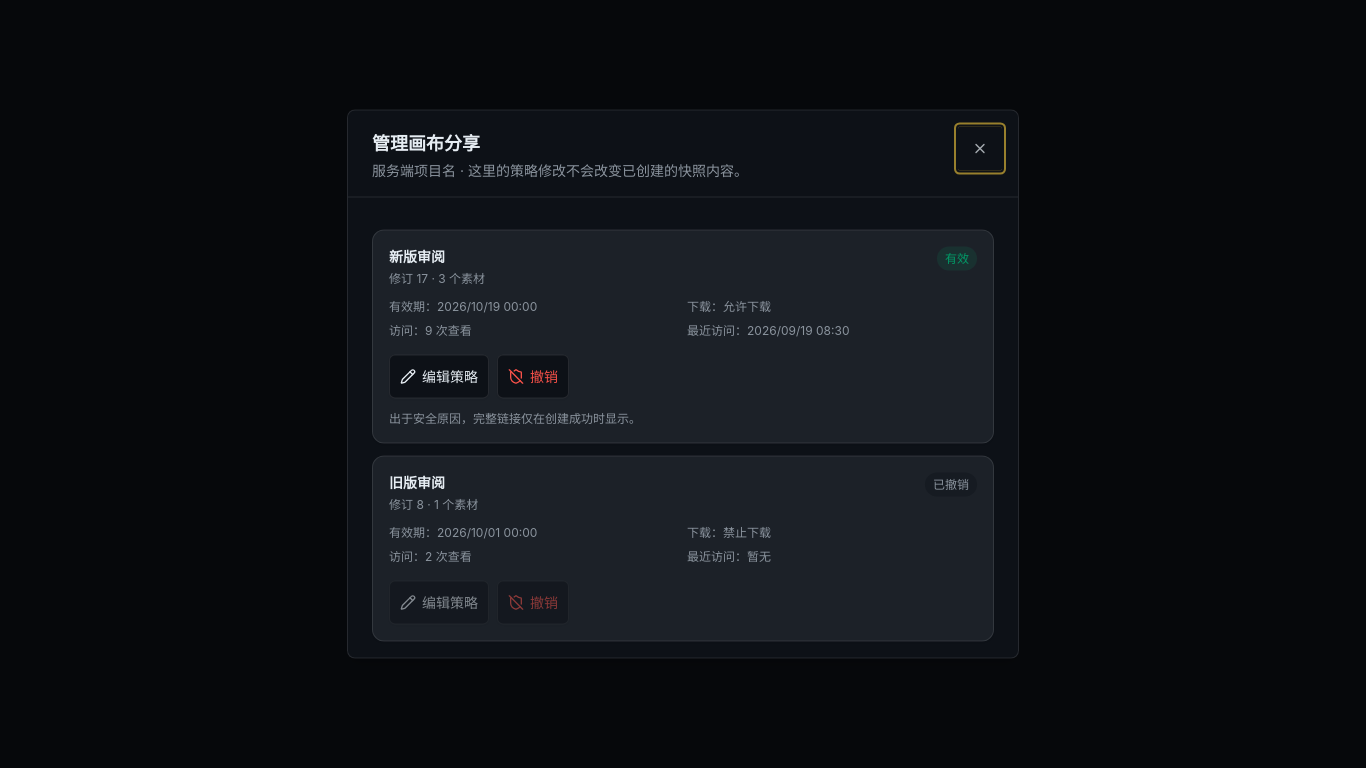
canvas share owner UI › renders revoke failures inside the active confirmation alert
Step 1. Click the button with aria-label "撤销分享 新版审阅" → (533, 376), box [497, 354, 569, 398]
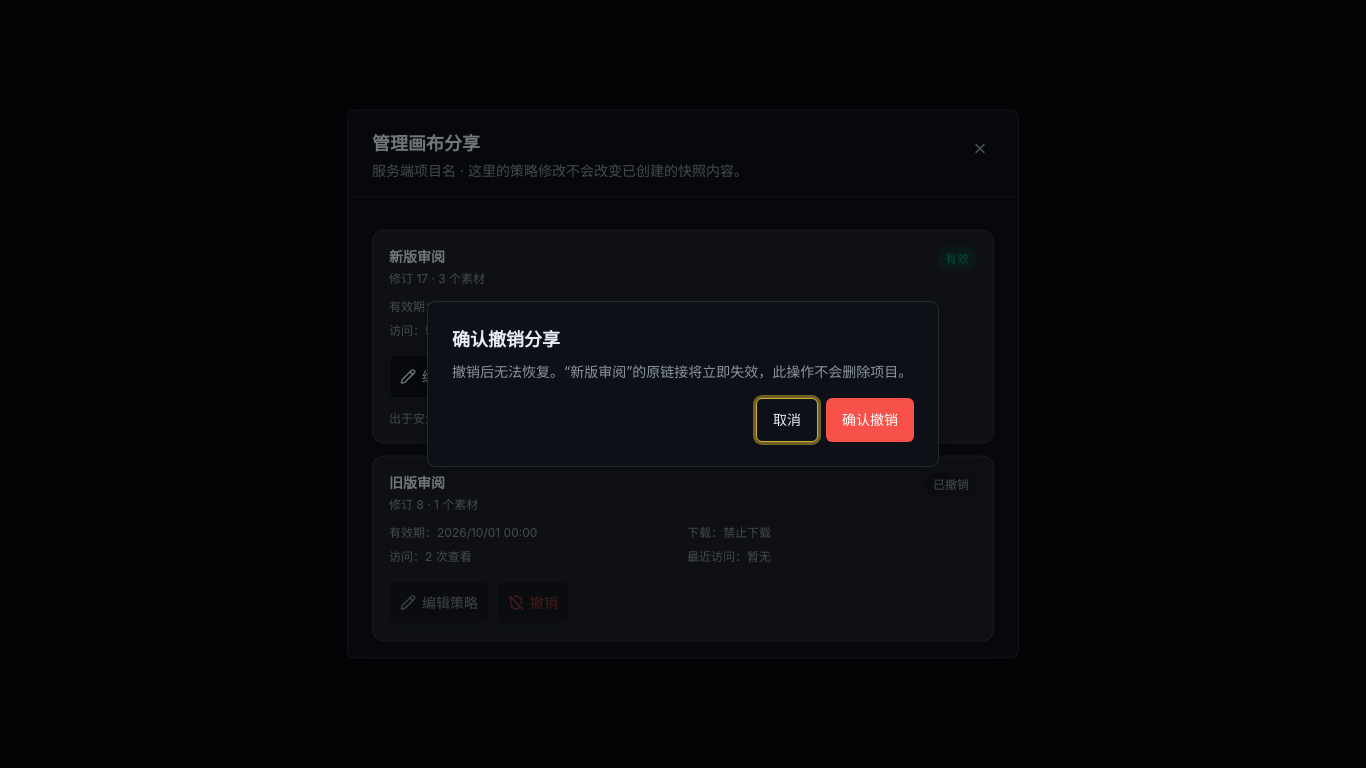
Step 2. Click the button "确认撤销" → (870, 420), box [826, 398, 914, 442]
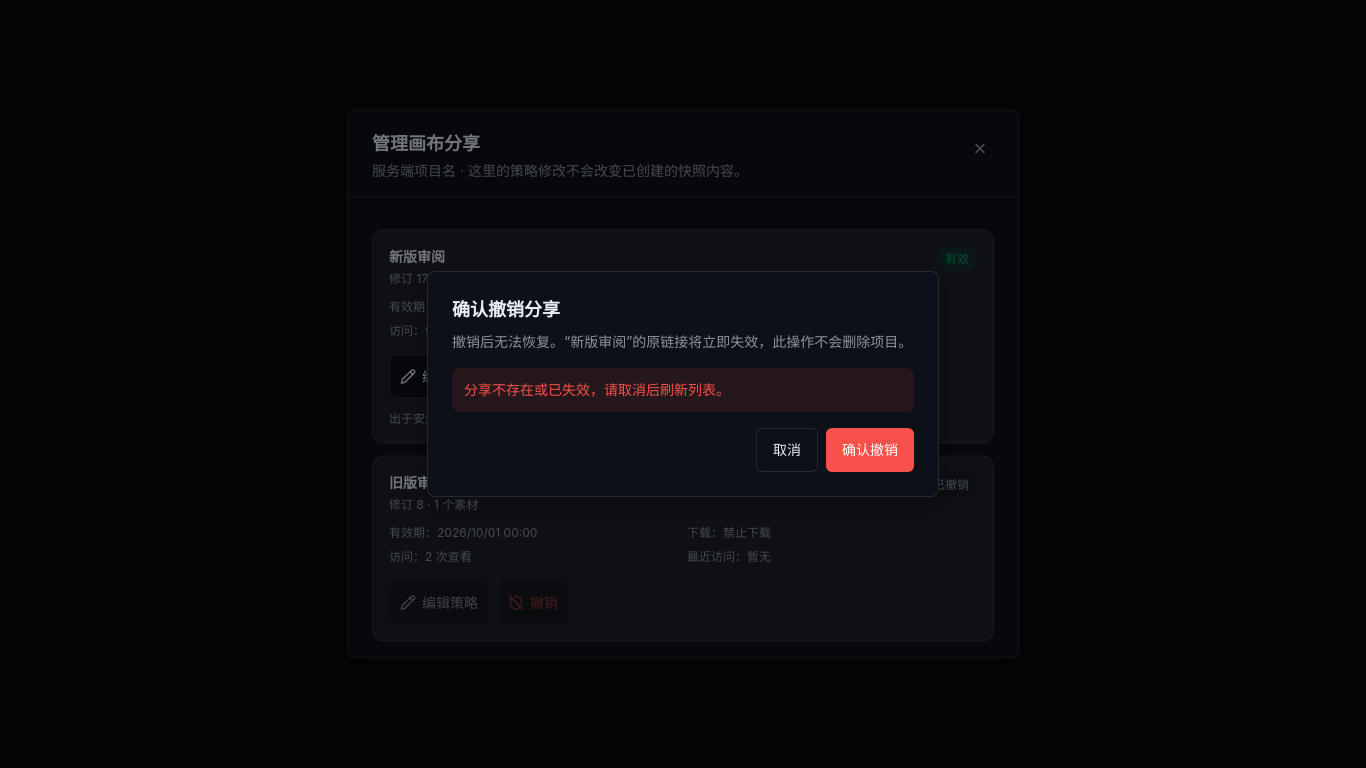
Check: the message shows "取消后刷新列表", box [464, 381, 730, 398]
